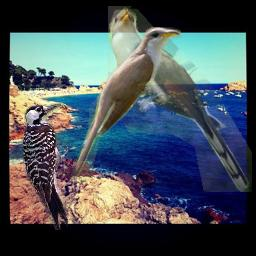Cuckoo: (108, 6, 252, 192), (69, 27, 181, 182)
Woodpecker: (23, 103, 68, 230)
